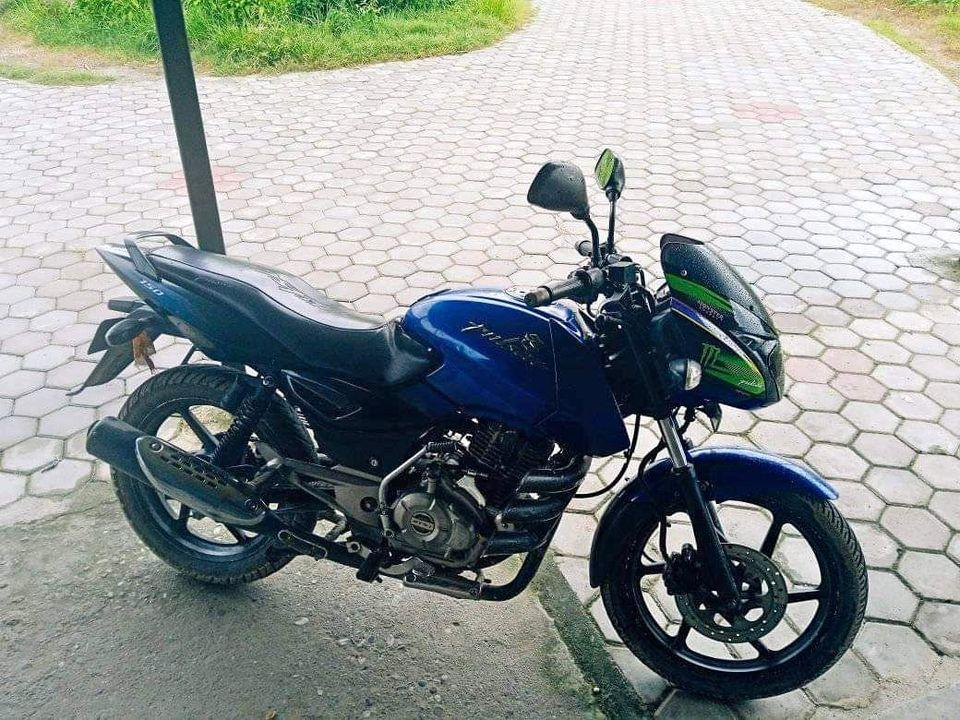bike: (66, 146, 876, 716)
